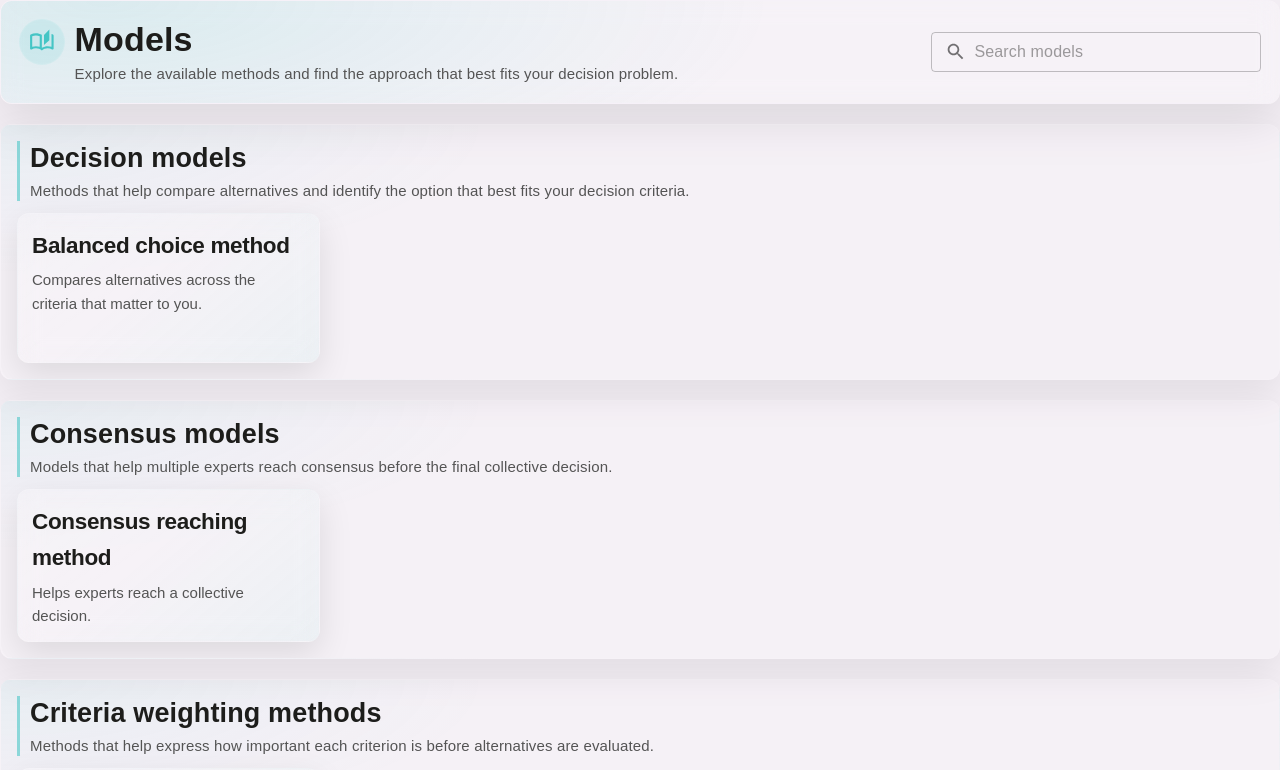
Scenario: ModelsView › places a matching consensus model in the Consensus models section
The width and height of the screenshot is (1280, 770).
Type "consensus" into the field labelled "Search models".
click(1118, 52); type("consensus")  # box [974,32,1261,72]
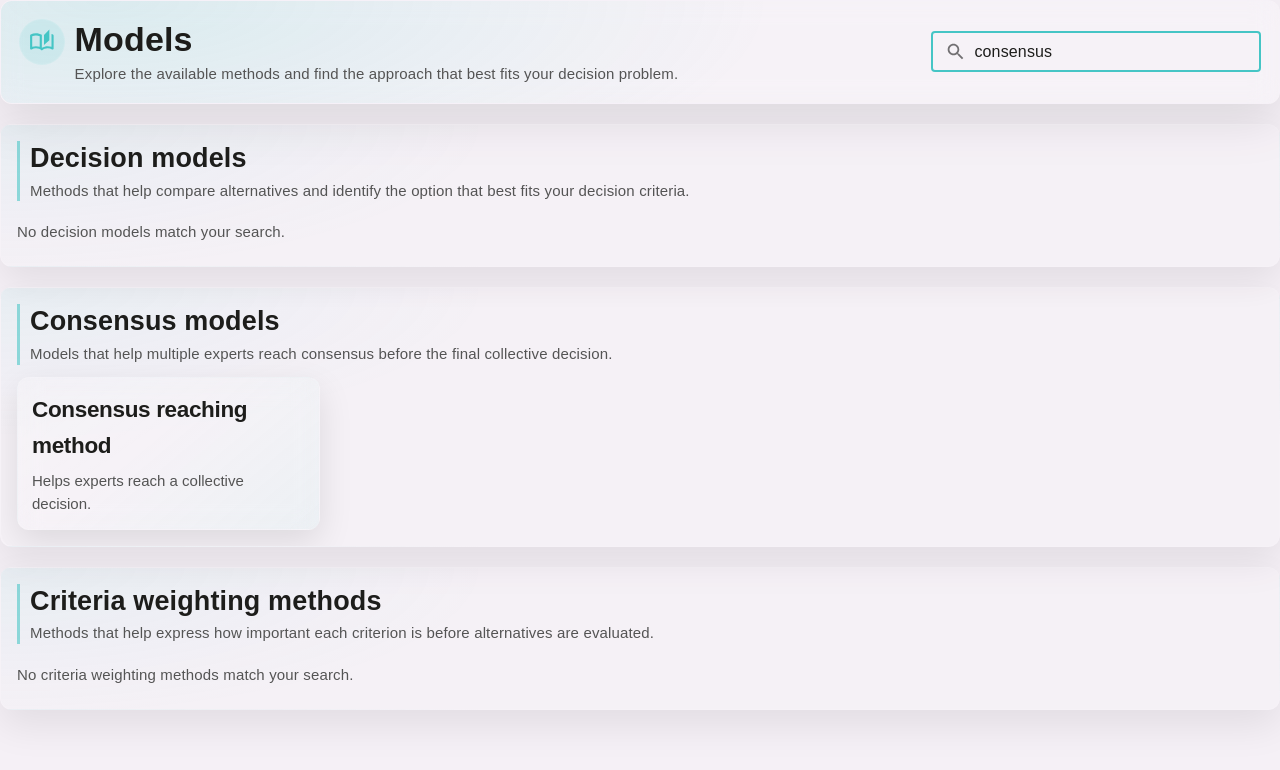
Expected: the button with aria-label "Learn about Consensus reaching method" is shown, [18,378,318,529]
Result: the text "No decision models match your search." is shown at [17,223,285,240]
